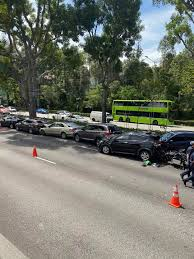car: (97, 133, 161, 161), (160, 129, 194, 154), (74, 124, 116, 144), (41, 122, 76, 138), (14, 119, 43, 134), (1, 115, 22, 129)
cone: (167, 183, 183, 208), (32, 144, 38, 158)
